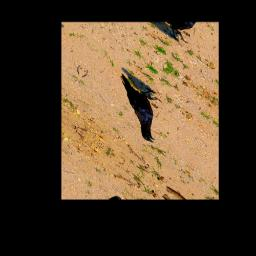Crow: (105, 69, 172, 145)
